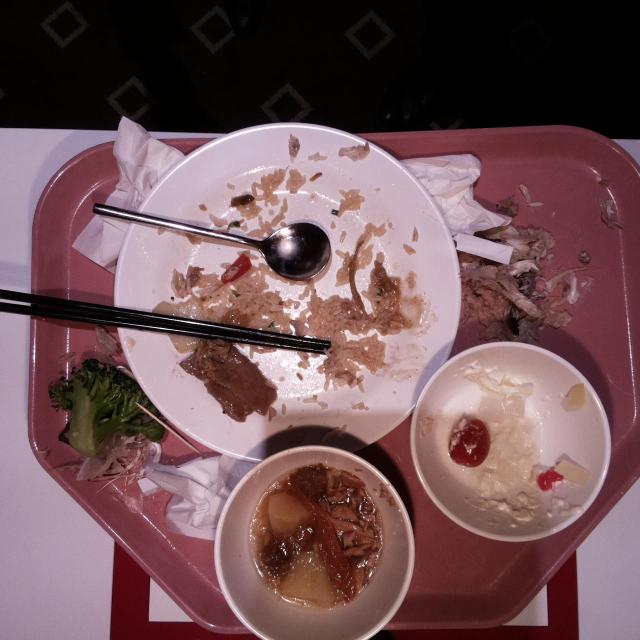Bone-fish: (476, 227, 552, 337)
Meat: (184, 344, 277, 419)
Rice: (198, 271, 284, 331), (324, 333, 386, 389), (300, 293, 358, 341)
Vegetable: (49, 362, 137, 452)
